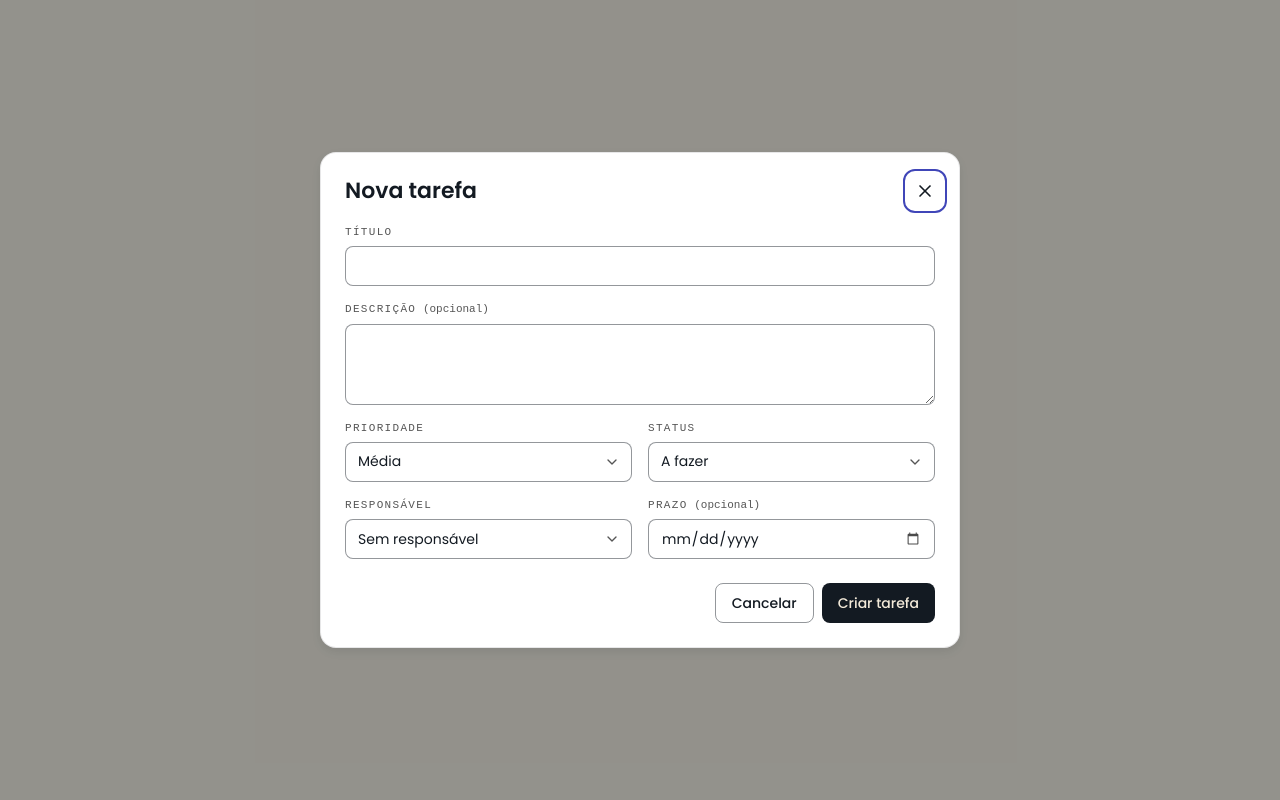
Test: TaskDialog › asks for a title before creating anything
The width and height of the screenshot is (1280, 800).
What coordinates should you click on to do the following:
click the button "Criar tarefa"
I would click on:
 (878, 603)
Its box is [822,583,935,623].
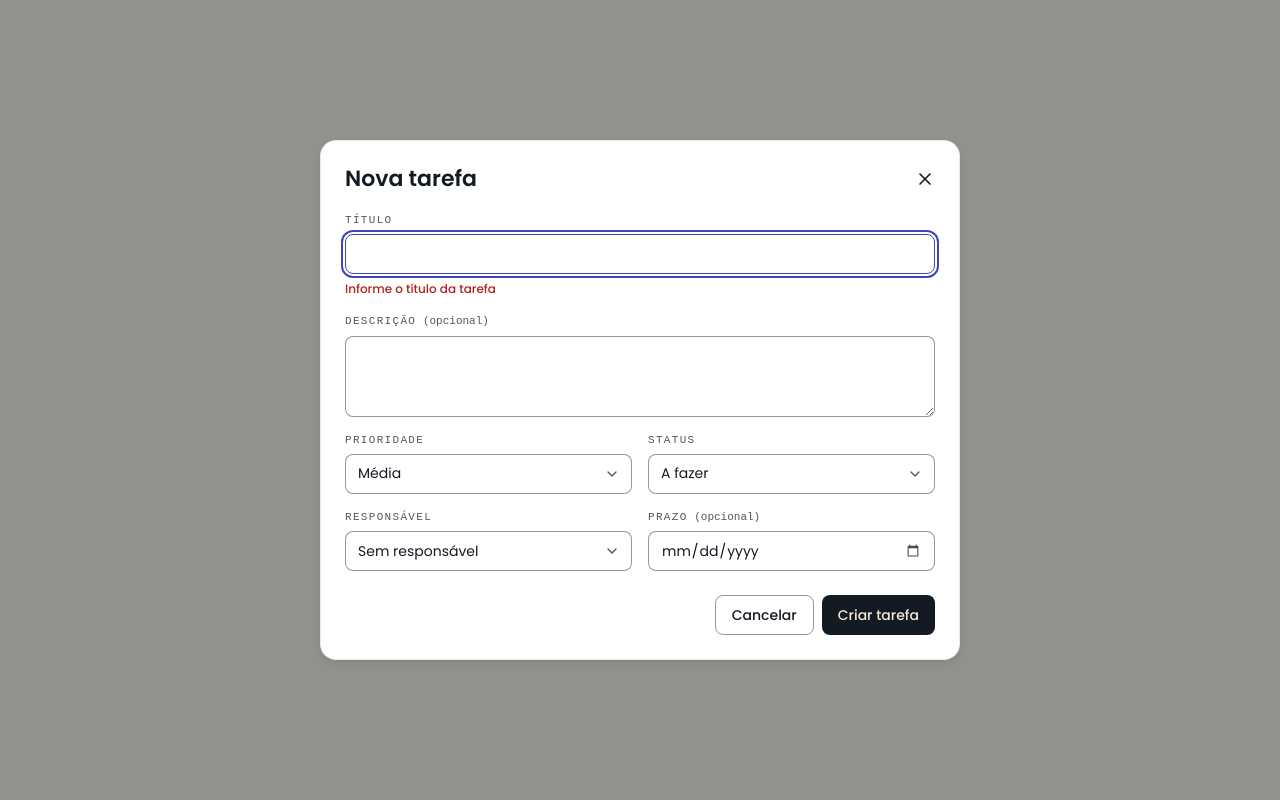
Now the text "Informe o título da tarefa" is shown, box [345,280,496,297]
